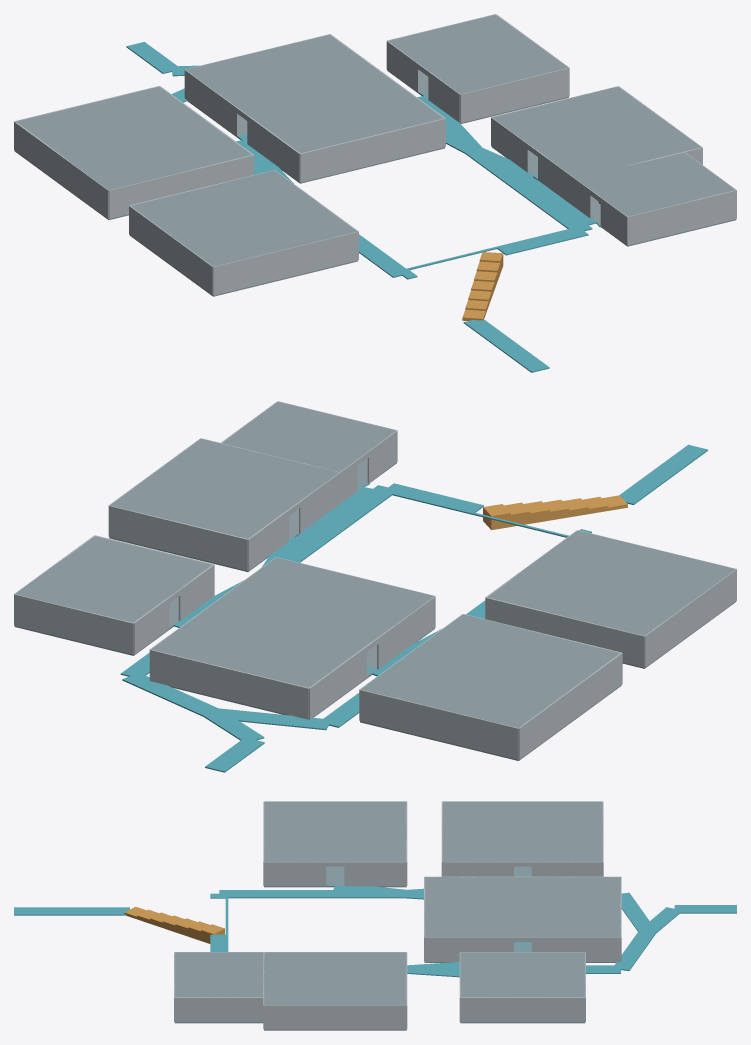
File: furnished.glb
3 renders of one model, top to bottom at view 1: azimuth 30°, elevation 25°; view 2: azimuth 150°, elevation 25°; view 3: azimuth 270°, elevation 25°, orthographic. The views are drawn at different scales.
Visible parts, largest first — view 1: Ceiling cap warehouse, Ceiling cap chapel, Ceiling cap house-a, Ceiling cap house-b, Ceiling cap shack, Ceiling cap pump, Wall warehouse S, Wall house-a S, Wall pump S, Wall shack S, Wall chapel S, Wall chapel W (+16 smaller); view 2: Ceiling cap warehouse, Ceiling cap chapel, Ceiling cap house-a, Ceiling cap house-b, Ceiling cap shack, Ceiling cap pump, Wall warehouse N, Wall chapel N, Wall house-b N, Wall shack N, Wall house-a N, Wall chapel W (+18 smaller); view 3: Ceiling cap warehouse, Ceiling cap chapel, Ceiling cap house-a, Ceiling cap house-b, Ceiling cap shack, Ceiling cap pump, Wall house-b E, Wall shack E, Wall pump E, Wall warehouse E.001, Wall warehouse E, L03 support 1 (+12 smaller).
Part boxes in pixels (x1,y1,x2,y2): Ceiling cap warehouse: (185,34,443,153); Ceiling cap chapel: (15,86,251,190); Ceiling cap house-a: (131,170,357,266); Ceiling cap house-b: (492,86,700,178); Ceiling cap shack: (388,14,568,94); Ceiling cap pump: (575,152,735,216); Wall warehouse S: (300,118,445,182); Wall house-a S: (213,231,358,295); Wall pump S: (627,190,736,245); Wall shack S: (460,67,569,122); Wall chapel S: (108,155,253,218); Wall chapel W: (14,121,108,218); Ceiling cap warehouse: (151,557,434,687); Ceiling cap chapel: (360,614,620,727); Ceiling cap house-a: (487,530,735,635); Ceiling cap house-b: (110,438,339,538); Ceiling cap shack: (15,536,211,622); Ceiling cap pump: (222,401,396,471); Wall warehouse N: (150,649,308,719); Wall chapel N: (359,689,518,759); Wall house-b N: (109,505,248,570); Wall shack N: (14,594,133,654); Wall house-a N: (485,597,644,667); Wall chapel W: (518,653,622,759); Ceiling cap warehouse: (424,877,620,937); Ceiling cap chapel: (442,801,602,861); Ceiling cap house-a: (264,801,406,861); Ceiling cap house-b: (264,952,406,1005); Ceiling cap shack: (460,952,585,997); Ceiling cap pump: (174,952,263,997); Wall house-b E: (264,1005,406,1029); Wall shack E: (460,997,585,1022); Wall pump E: (174,997,263,1022); Wall warehouse E.001: (424,937,513,961); Wall warehouse E: (531,937,620,961); L03 support 1: (219,890,406,898).
Size of the model in its own units: 54.16 by 4.36 by 81.
Materials: 14 (10 with a texture image).
